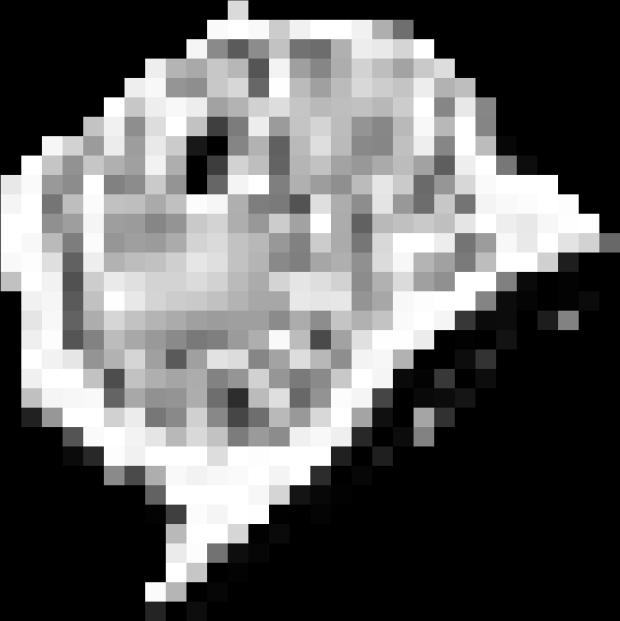tumor_good_chance: (1, 0, 620, 621)
